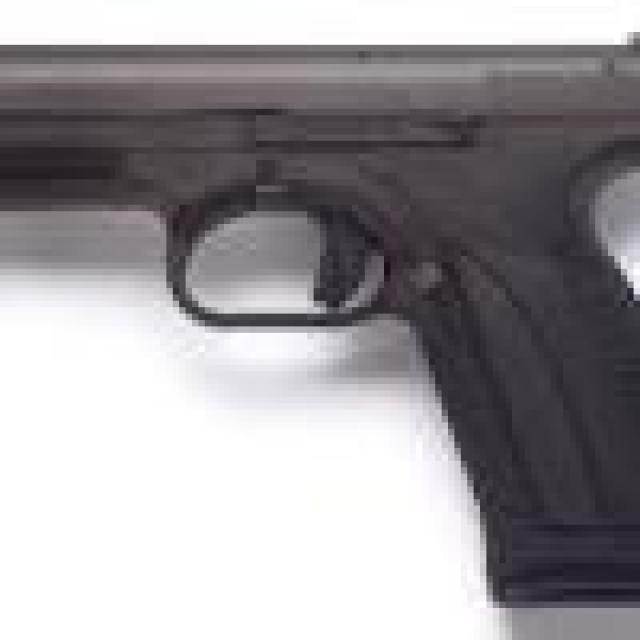Gun: (0, 24, 640, 612)
